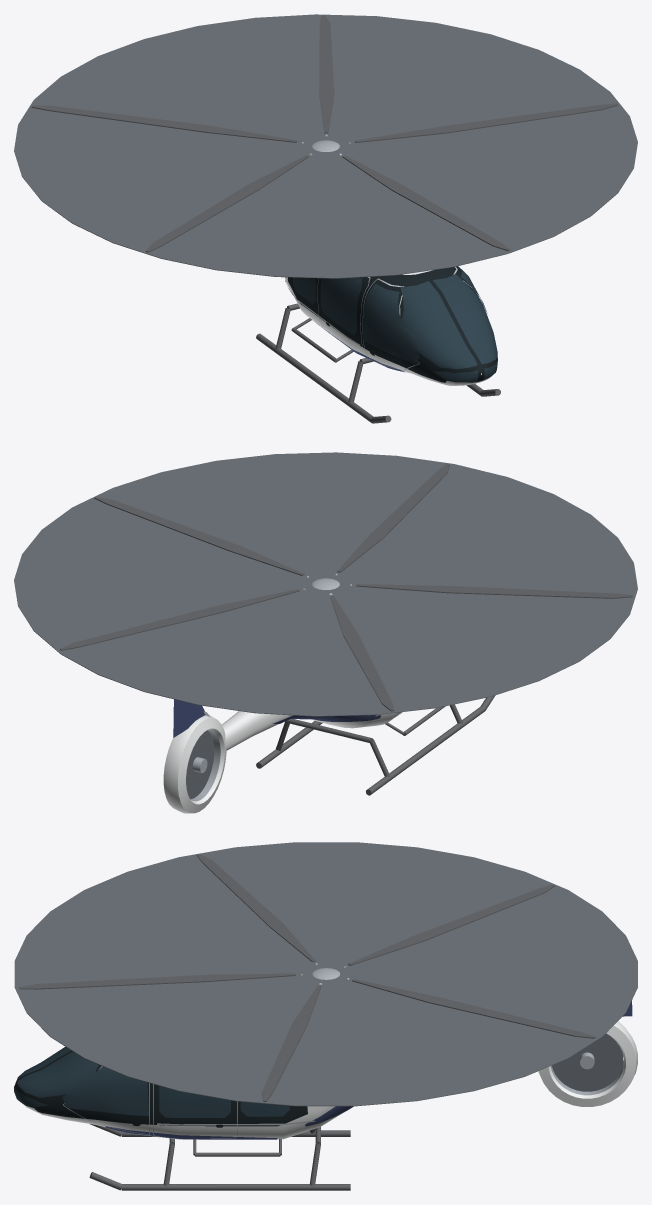
Rendered from aircraft-helicopter.glb.
3 views of the same model, one above another, from view 1: azimuth 30°, elevation 25°; view 2: azimuth 150°, elevation 25°; view 3: azimuth 270°, elevation 25° (orthographic).
Parts seen in each view (by area): view 1: aircraft-helicopter; view 2: aircraft-helicopter; view 3: aircraft-helicopter.
Part boxes in pixels (x1,y1,x2,y2): aircraft-helicopter: (14, 14, 637, 423); aircraft-helicopter: (14, 452, 637, 813); aircraft-helicopter: (14, 842, 637, 1190).
Bounding box in the file's own units: 10.2 × 3.47 × 10.21.
